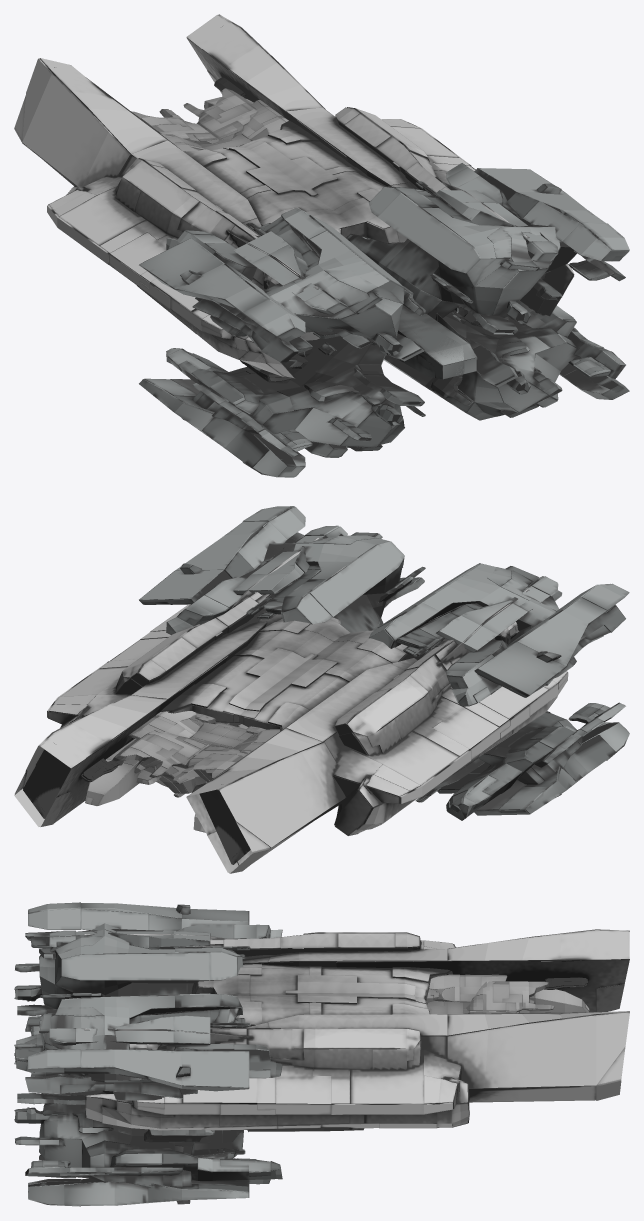
File: Battlecruiser_000.fbx
The picture shows the model from 3 angles, top to bottom: view 1: azimuth 30°, elevation 25°; view 2: azimuth 150°, elevation 25°; view 3: azimuth 270°, elevation 25°; orthographic projection. The views are drawn at different scales.
Visible parts, largest first — view 1: Battlecruiser_000; view 2: Battlecruiser_000; view 3: Battlecruiser_000.
Boxes of the visible parts, box(x1,y1,x2,y2) form: Battlecruiser_000: box(14, 14, 629, 477); Battlecruiser_000: box(14, 506, 629, 873); Battlecruiser_000: box(14, 902, 629, 1206).
Bounding box in the file's own units: 47.14 × 20.42 × 69.12.
